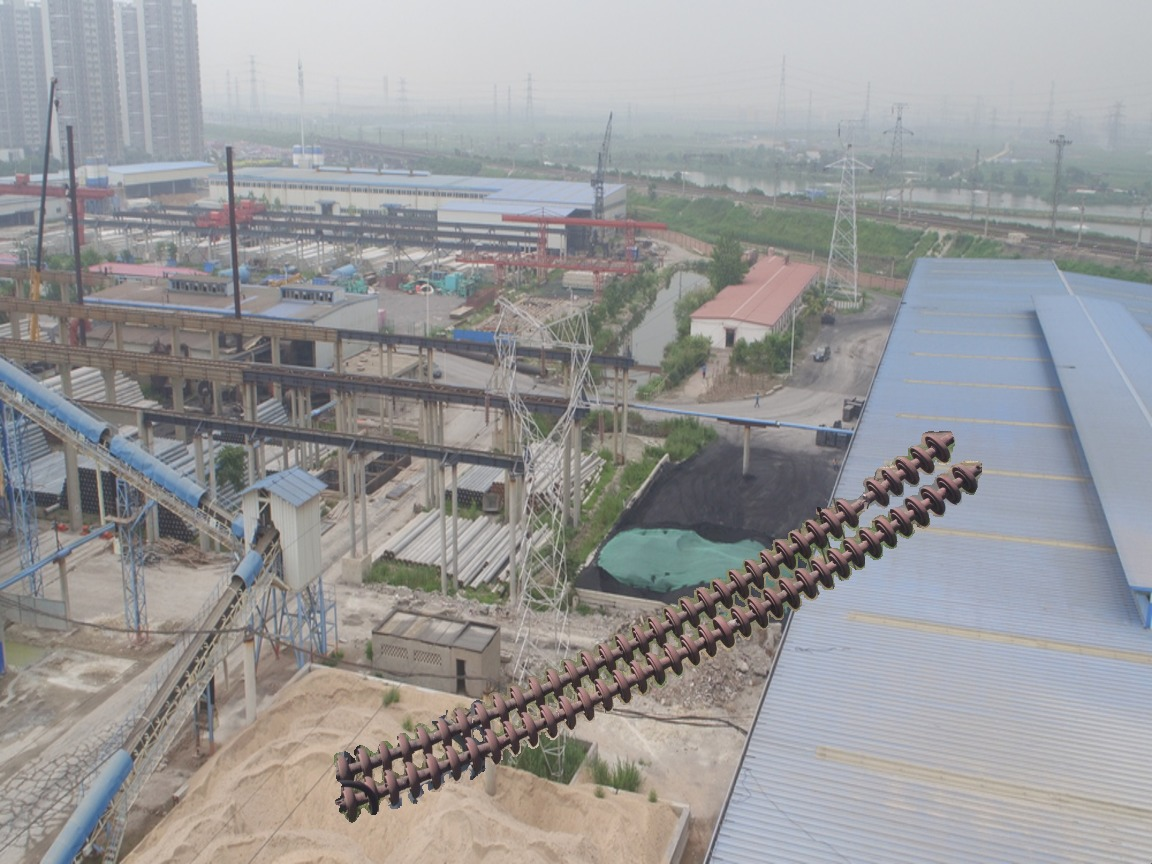defect: (832, 478, 895, 527)
